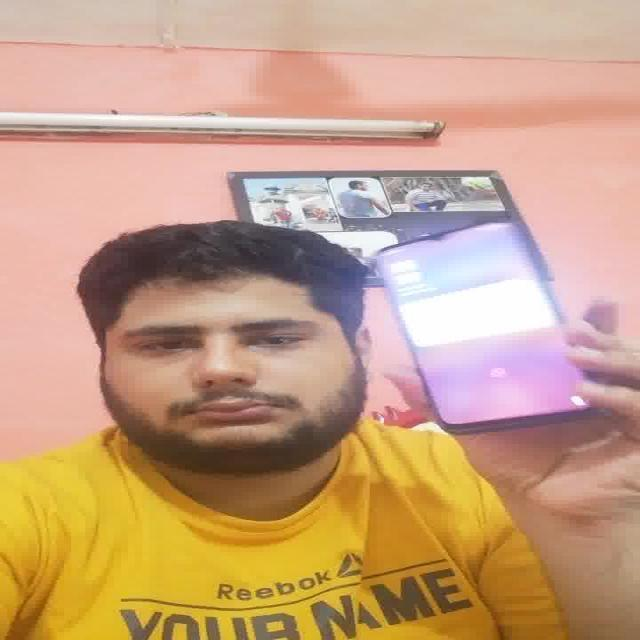Phone: (373, 215, 598, 432)
